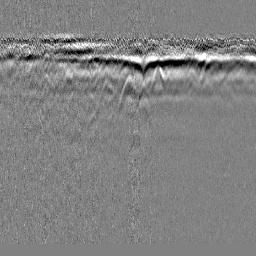cavity: (117, 73, 141, 111)
